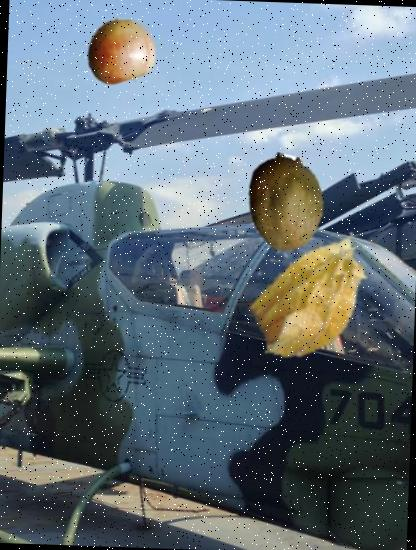Apple: (85, 16, 158, 89)
Papaya: (236, 154, 334, 252)
Physalis: (236, 224, 388, 376)
